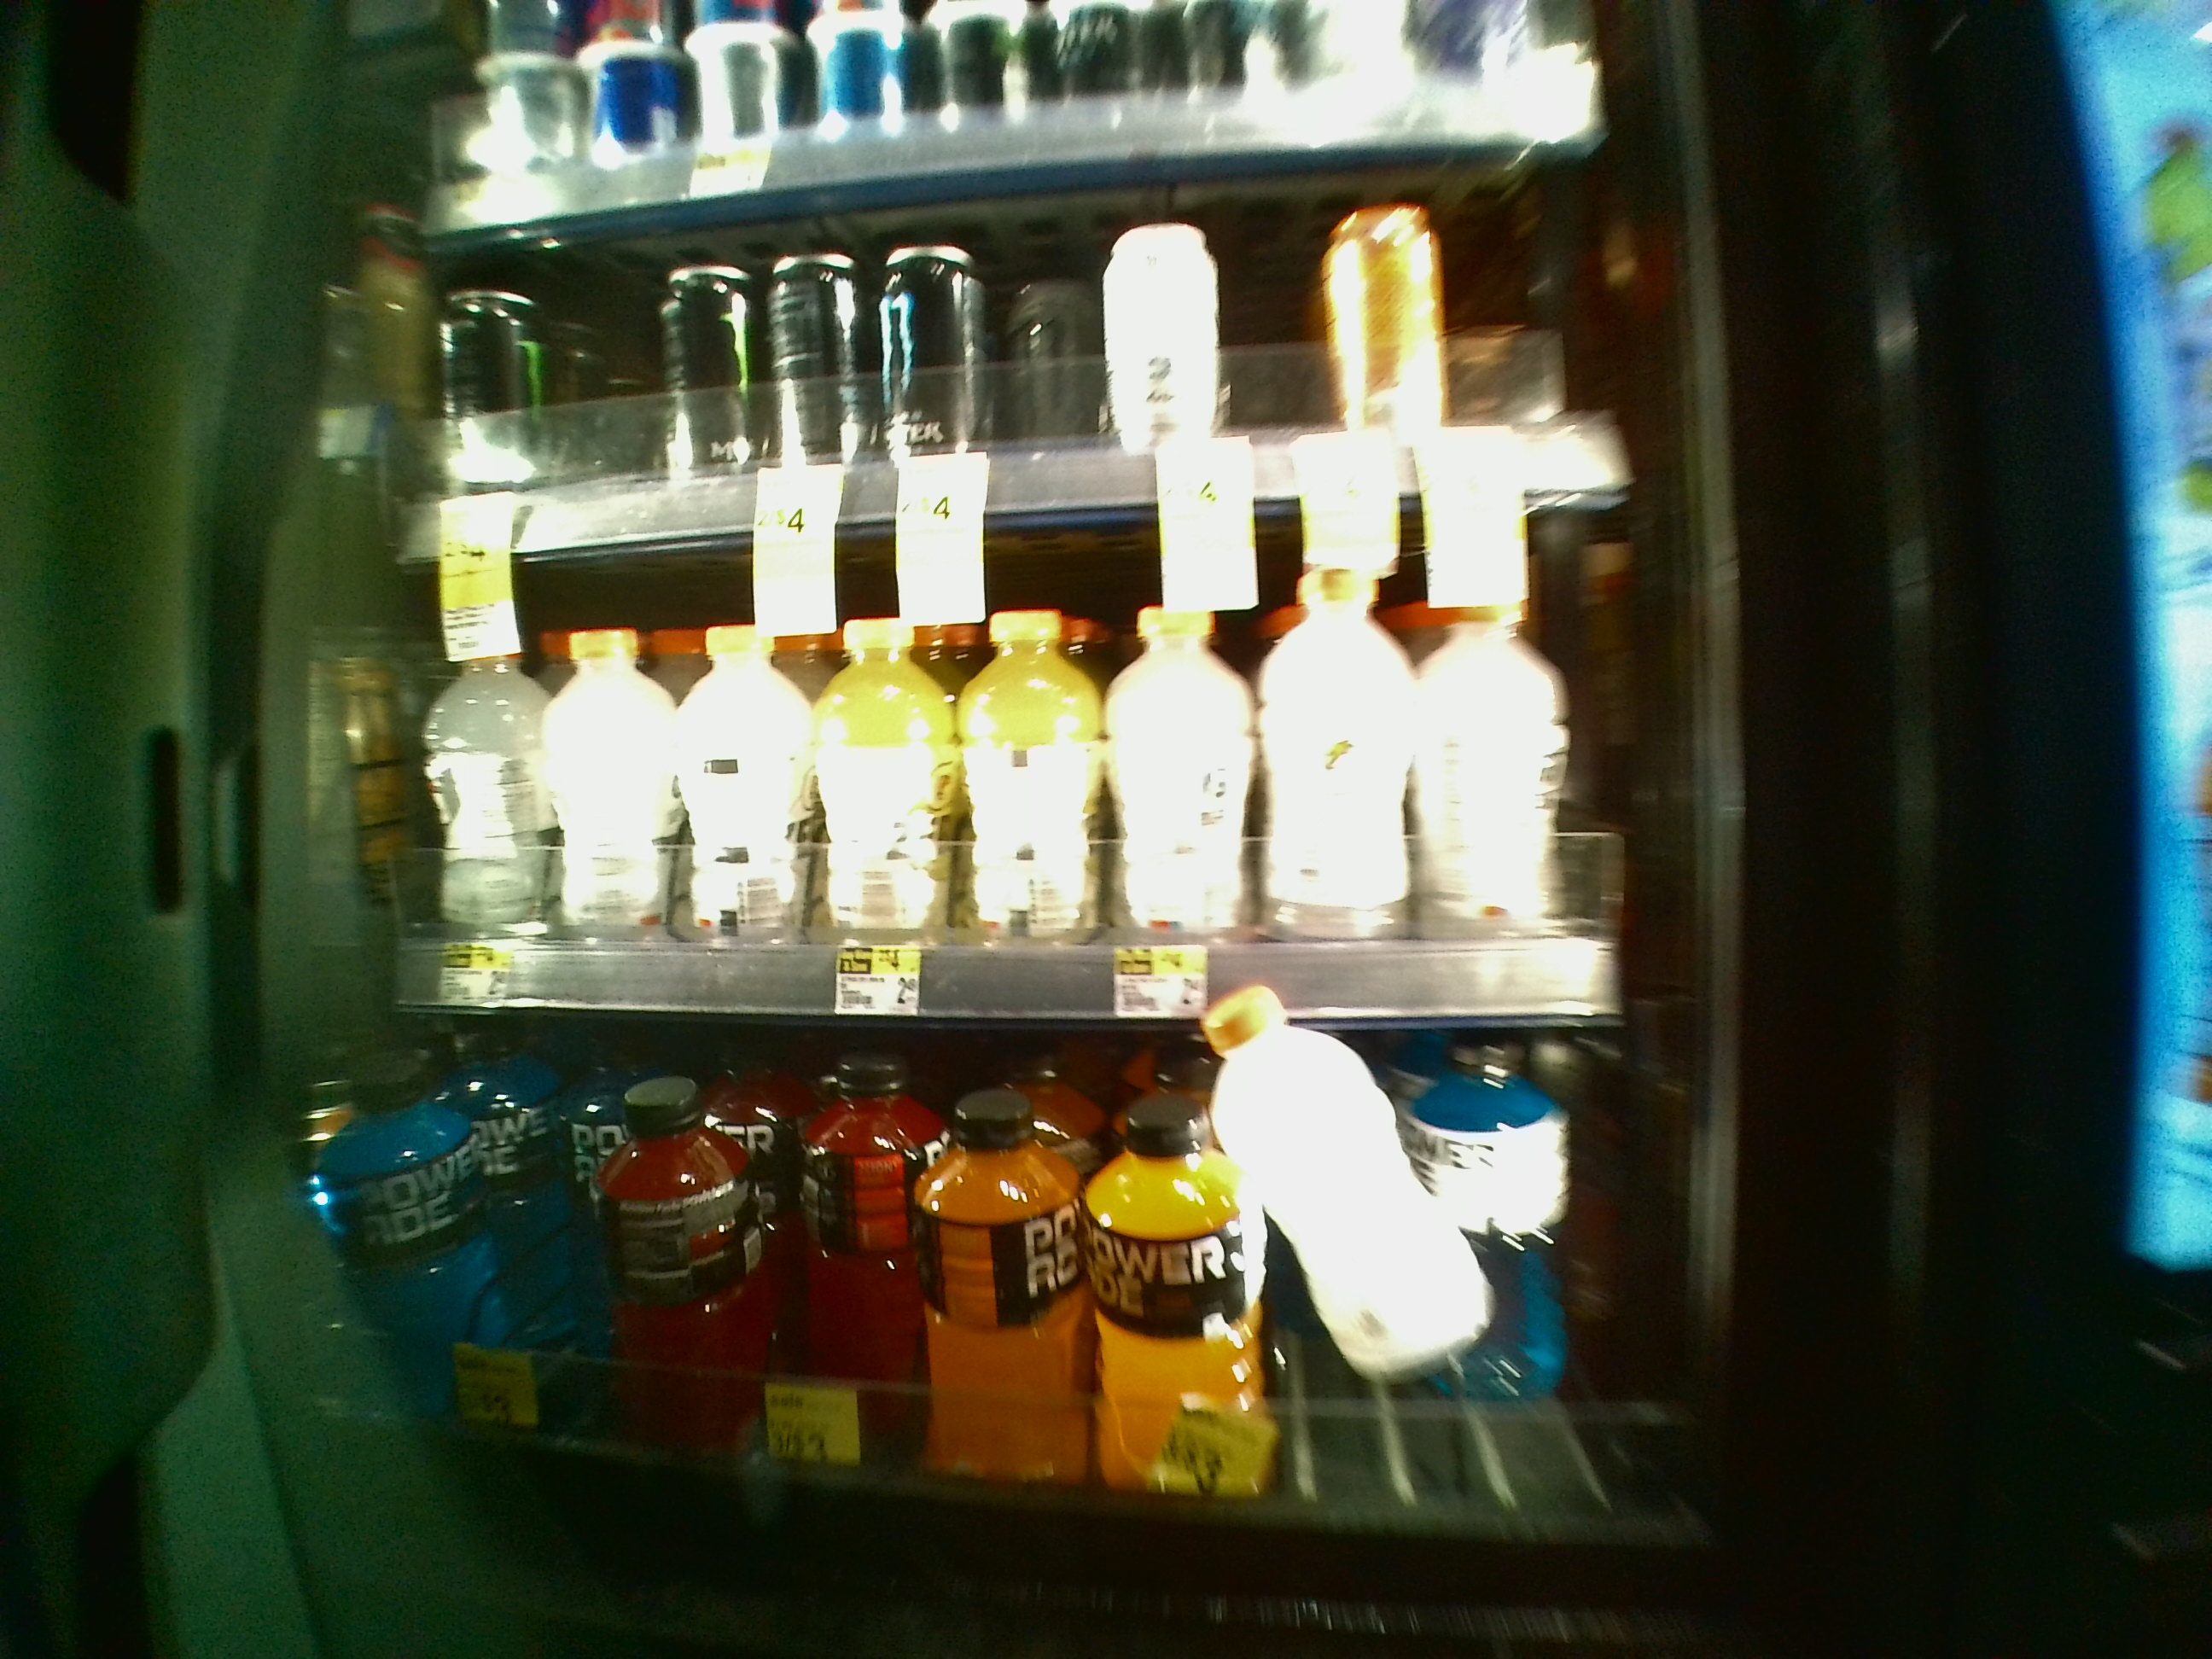shelf: (289, 1019, 1721, 1525), (329, 500, 1703, 1014)
